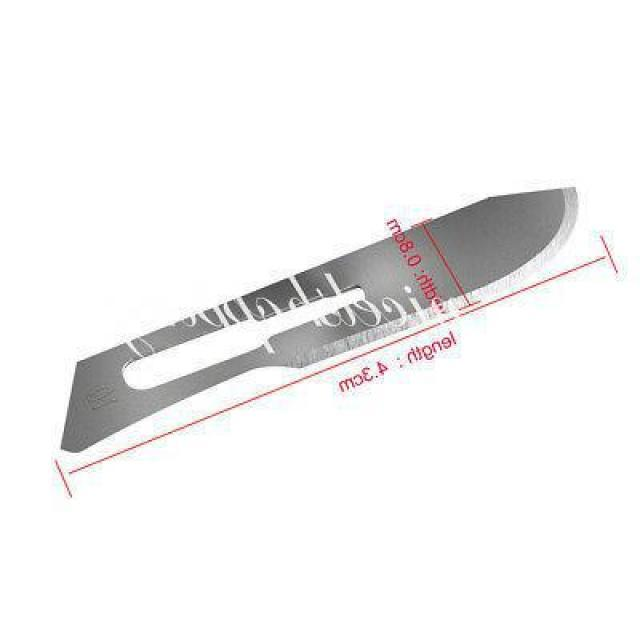Scalpel: (58, 180, 586, 458)
